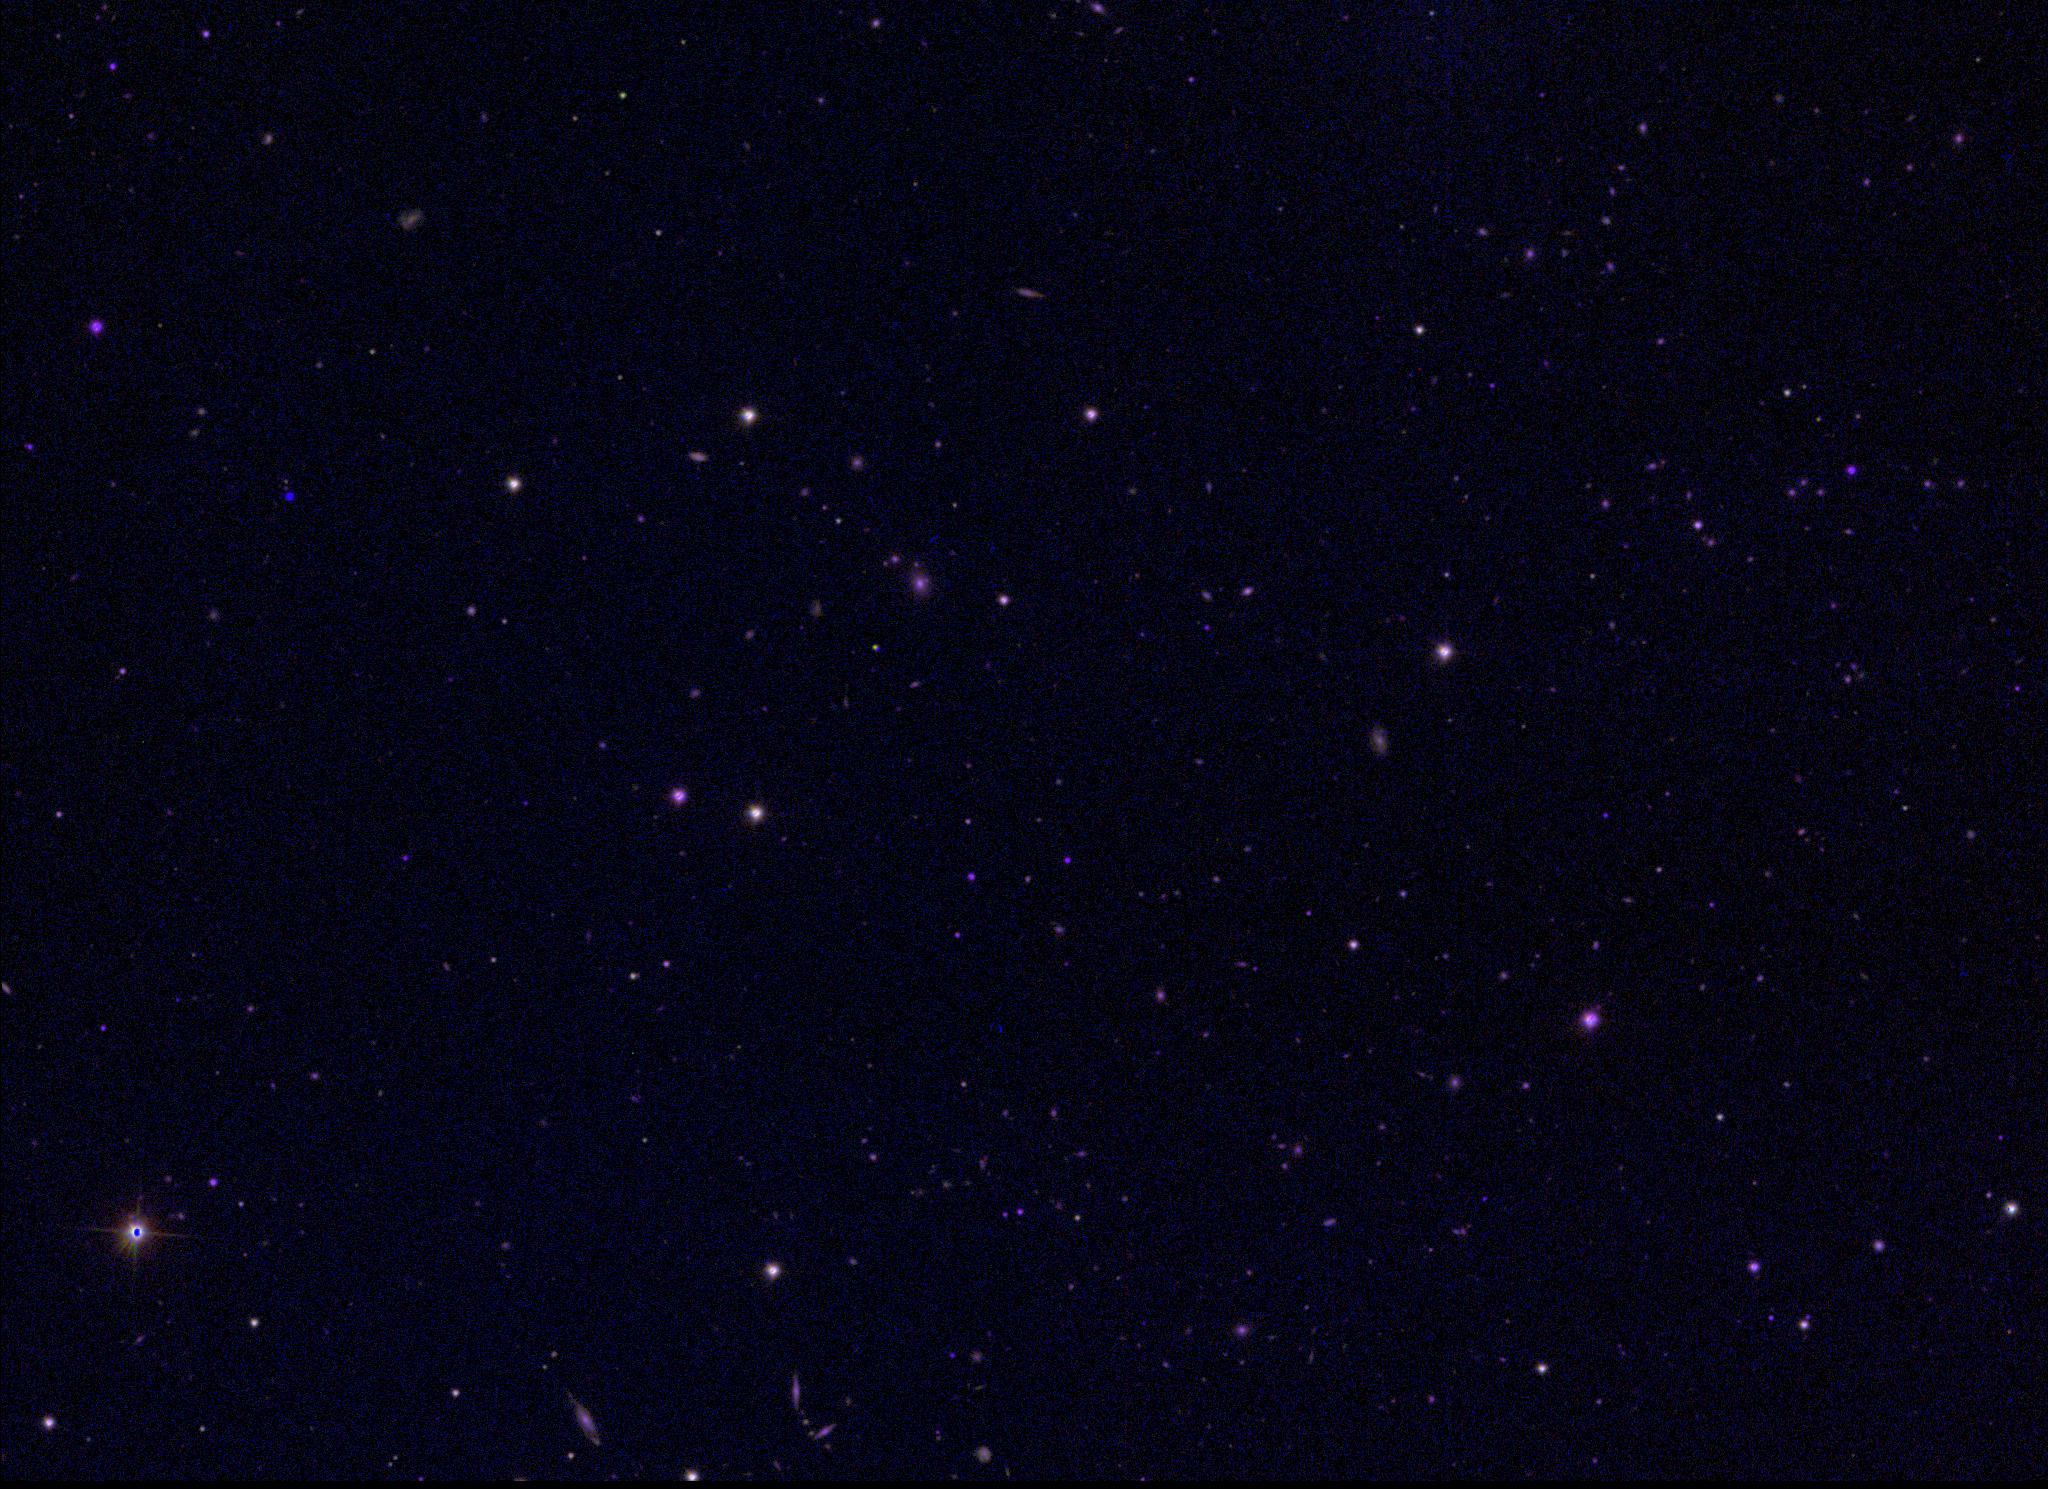L: (286, 488, 301, 503)
